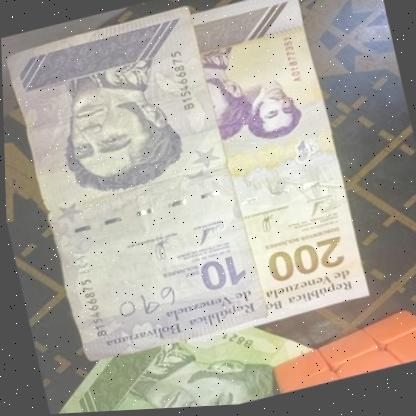fifty-front-vef: (40, 308, 326, 415)
ten-back-vef: (0, 3, 270, 368)
two_hundred-front-vef: (123, 0, 370, 345)
